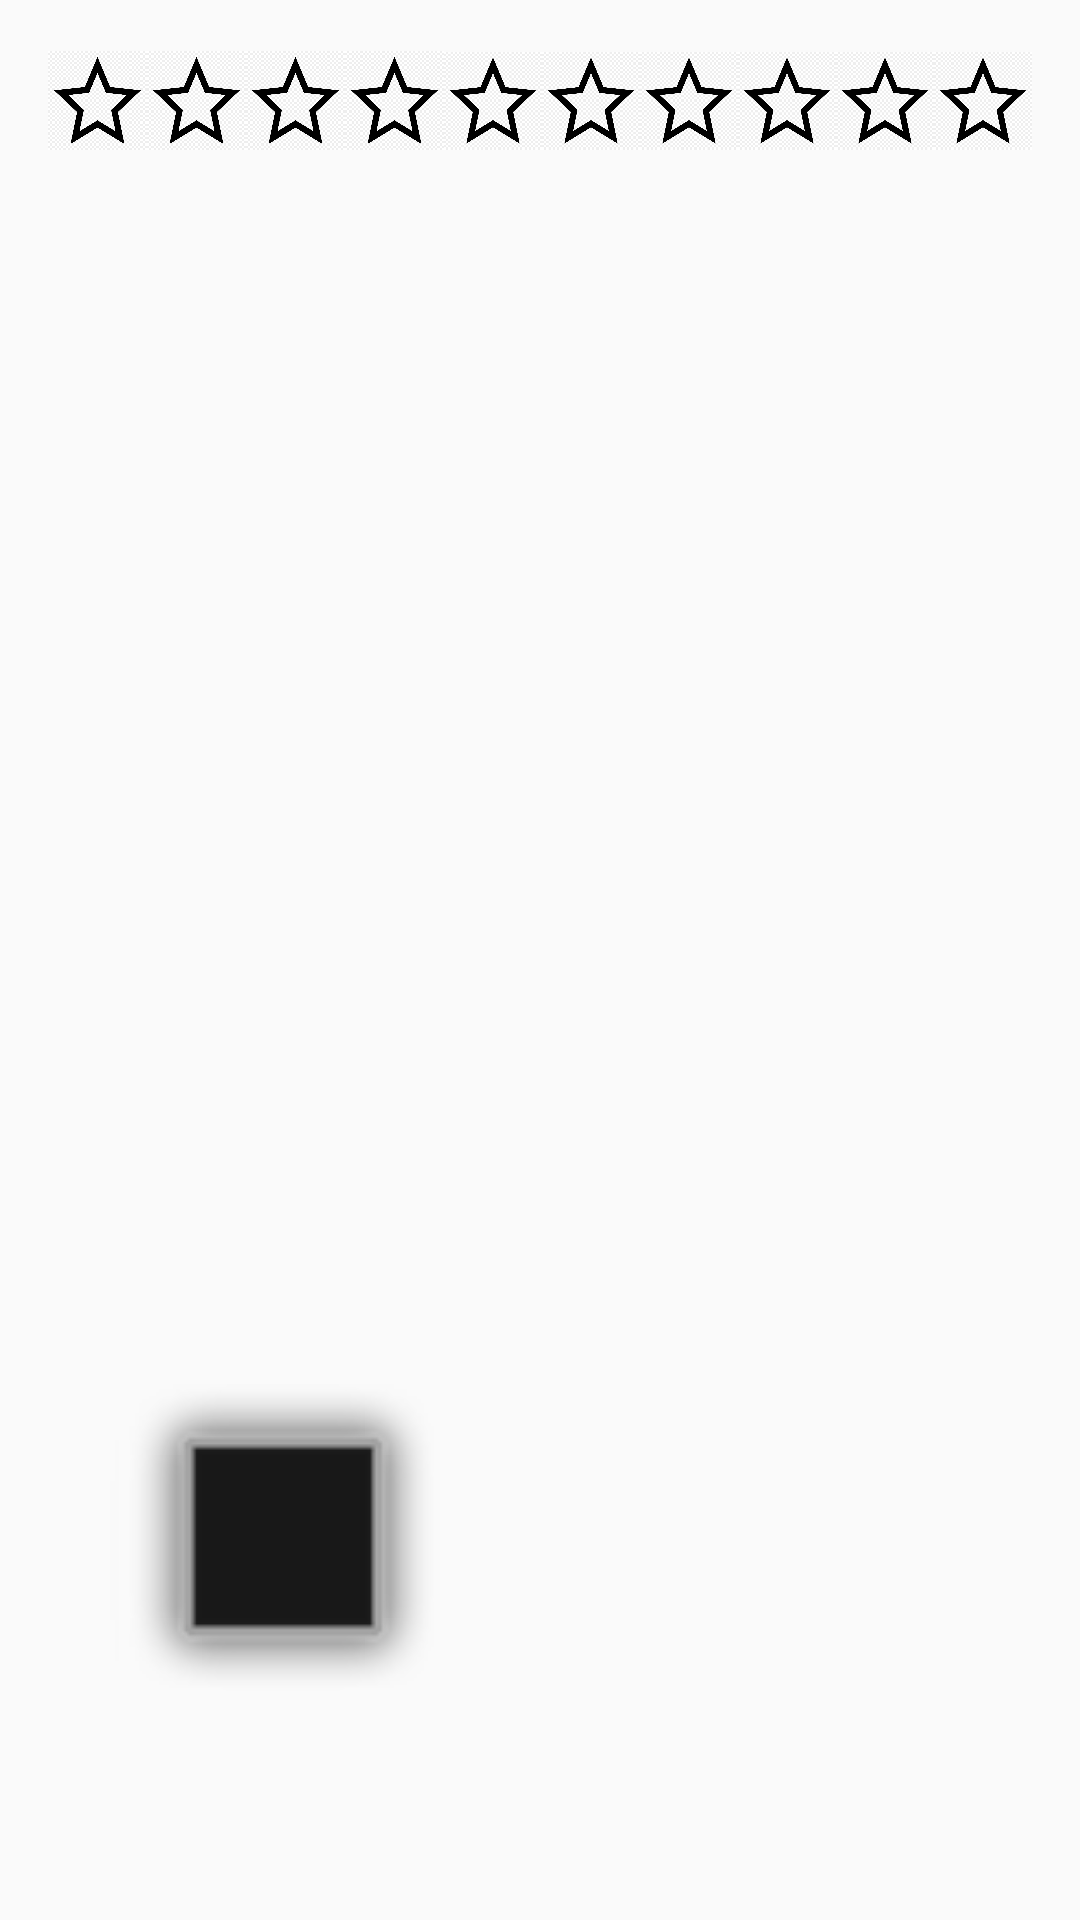

Point at icon controls on the screen. Image size 1080w x 1920h, points as [x,y].
star: [97,100]
